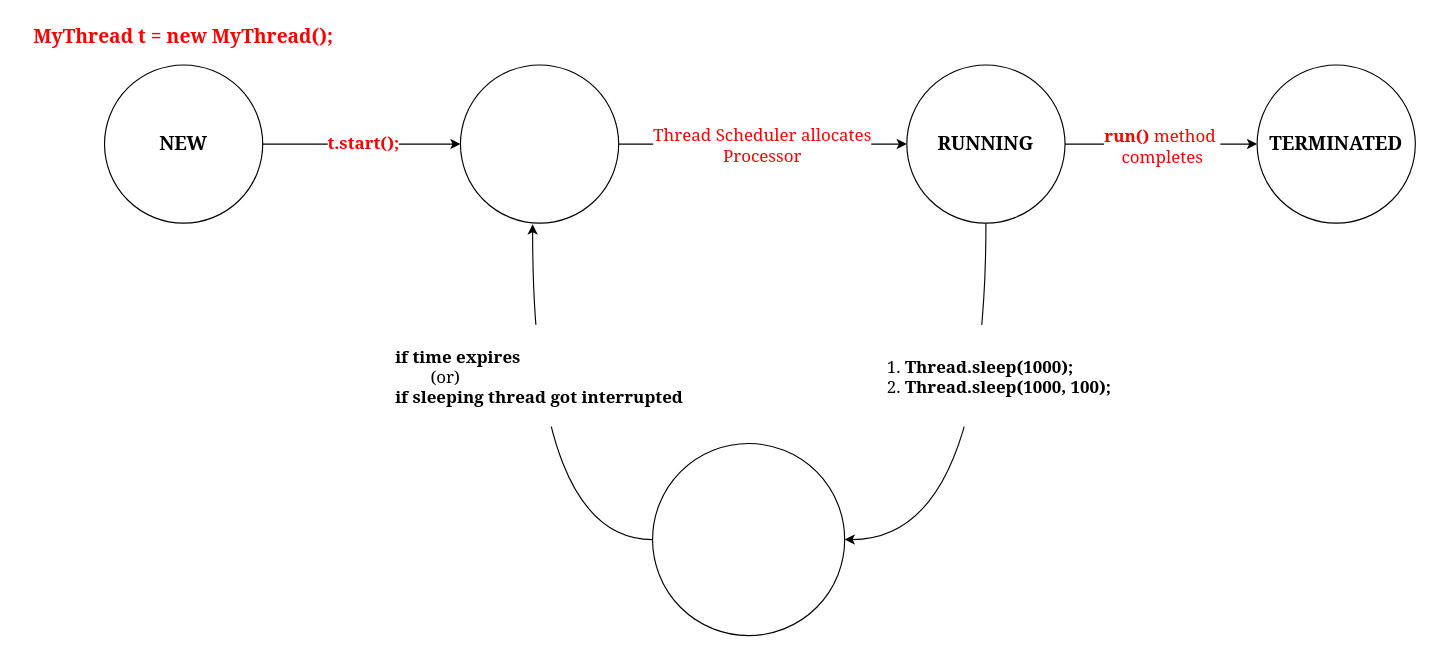
This 1435x655 diagram has some shape labels left out. The shapes that lost their labels are listed below. From the top down, each one's centre as x and y in pixels, then its label:
At (x=539, y=143): "RUNNABLE".
At (x=748, y=539): "SLEEP".
